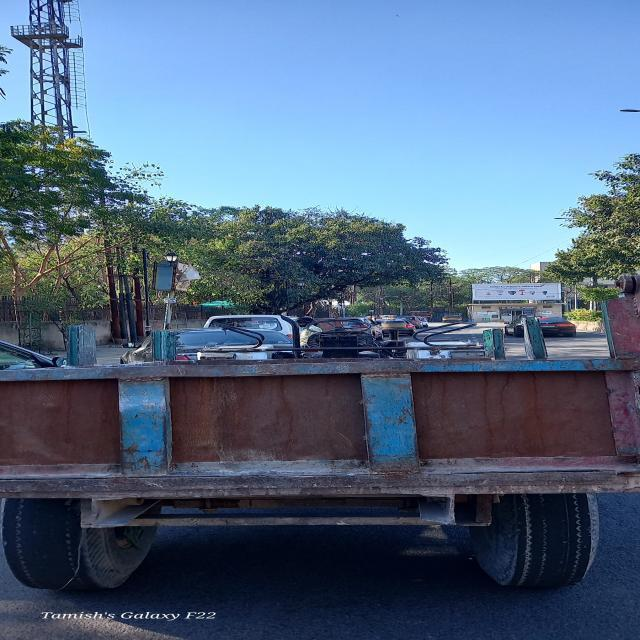uncovered: (0, 306, 640, 588)
